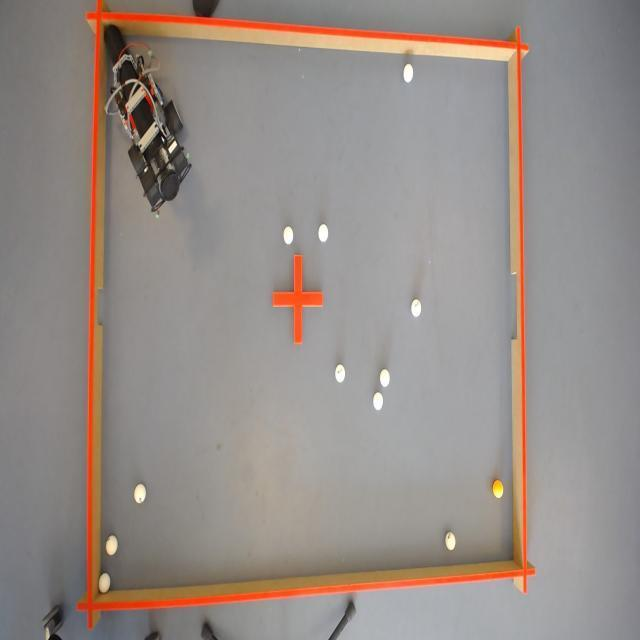orange: (494, 479, 506, 498)
robot: (107, 25, 184, 216)
white: (132, 484, 146, 505), (98, 571, 109, 595), (107, 534, 119, 556), (410, 297, 422, 318), (444, 532, 456, 552), (282, 225, 294, 245), (316, 222, 328, 242), (403, 62, 415, 82), (334, 364, 346, 383), (379, 369, 391, 387), (372, 393, 382, 411)
